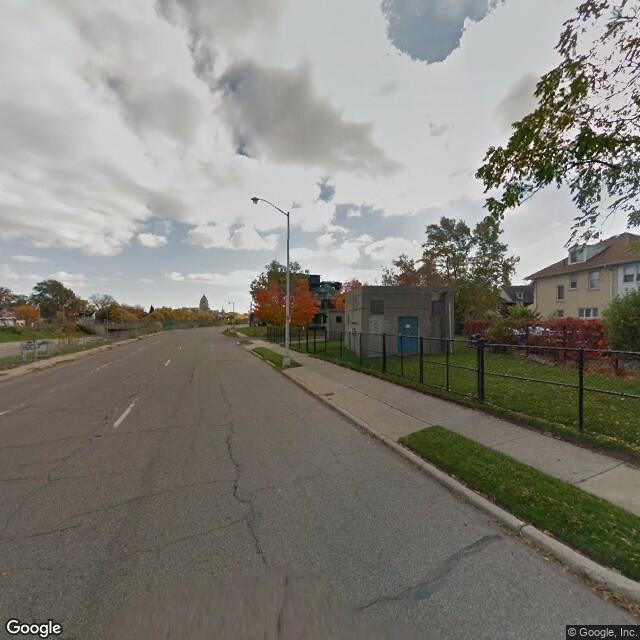litter: (543, 553, 555, 561), (606, 438, 620, 443)
